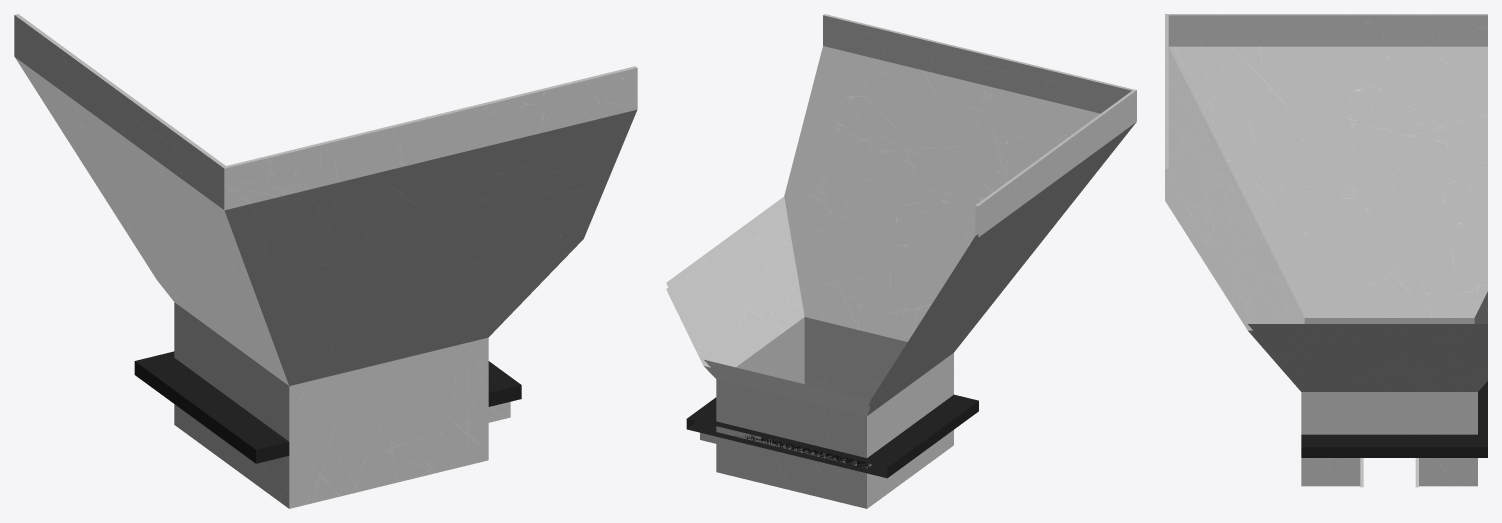
The model's file is TightenerStation_Cube07.glb.
3 renders of one model, left to right at view 1: azimuth 30°, elevation 25°; view 2: azimuth 150°, elevation 25°; view 3: azimuth 270°, elevation 25°, orthographic. The views are drawn at different scales.
Visible parts, largest first — view 1: color-2.003; view 2: color-2.003; view 3: color-2.003.
Boxes of the visible parts, x1,y1,x2,y2 form: color-2.003: [14, 14, 637, 508]; color-2.003: [666, 14, 1136, 508]; color-2.003: [1165, 14, 1487, 487].
Bounding box in the file's own units: 0.3109 × 0.3183 × 0.2738.
Materials: 2 (2 with a texture image).
